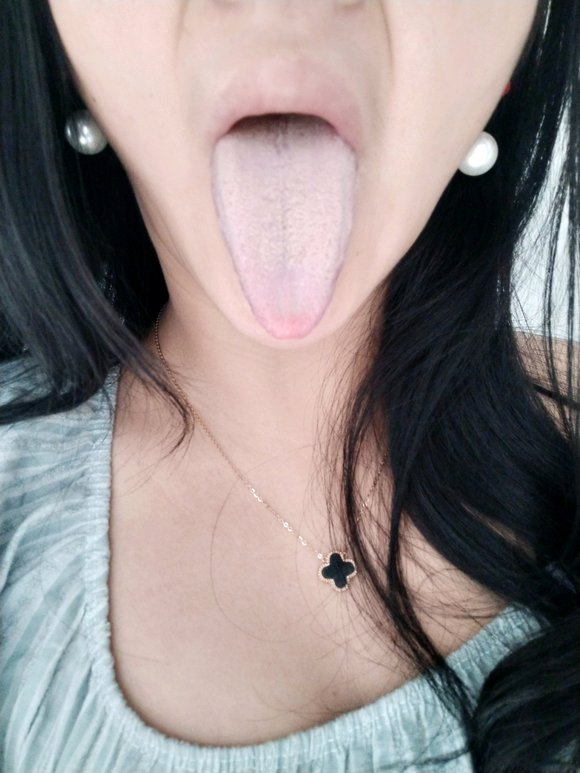baitaishe: (214, 109, 358, 338)
shoushe: (214, 109, 358, 338)
